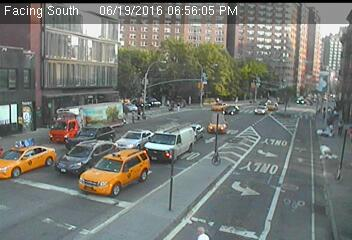neg: (250, 72, 263, 89), (214, 92, 223, 104)
pos: (332, 115, 350, 138), (175, 99, 185, 112)
